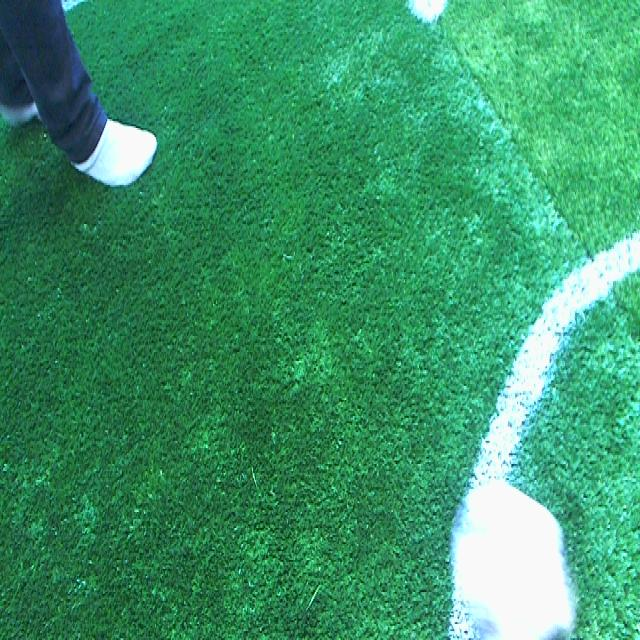ball: (441, 473, 579, 629)
